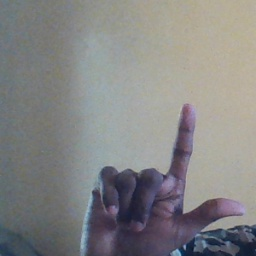L: (82, 102, 245, 256)
